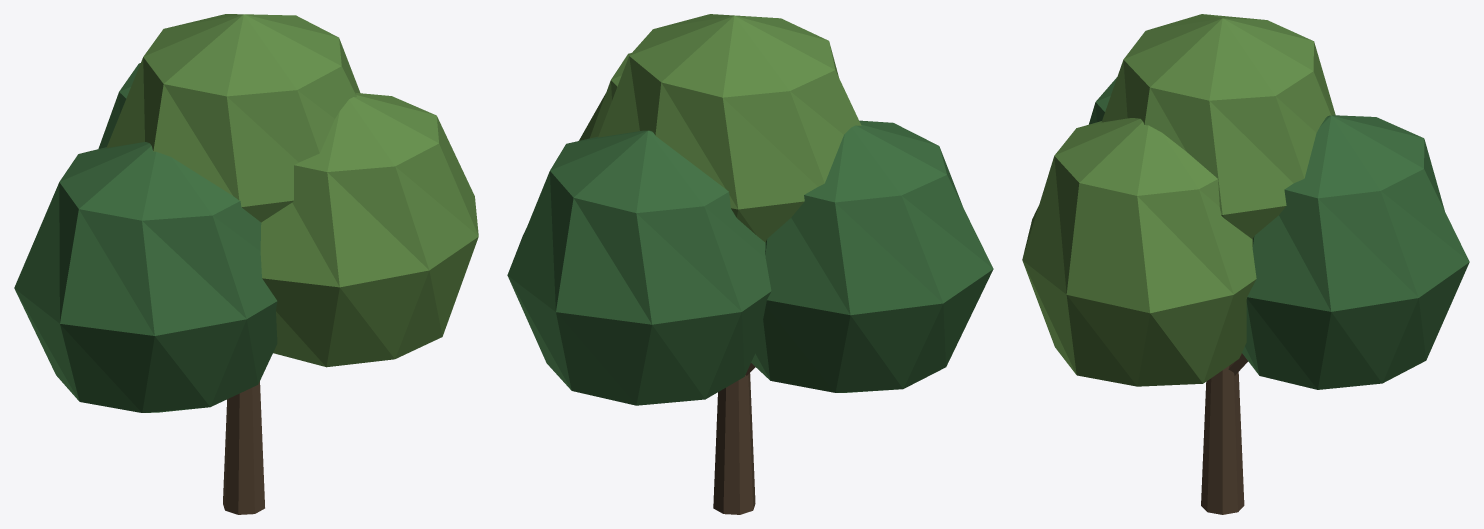
Rendered from tree_small.glb.
The picture shows the model from 3 angles, left to right: view 1: azimuth 30°, elevation 25°; view 2: azimuth 150°, elevation 25°; view 3: azimuth 270°, elevation 25°; orthographic projection.
Visible parts, largest first — view 1: tree_small; view 2: tree_small; view 3: tree_small.
Part boxes in pixels (x1,y1,x2,y2): tree_small: (14, 14, 478, 514); tree_small: (507, 14, 993, 514); tree_small: (1022, 14, 1469, 514).
Bounding box in the file's own units: 5.27 × 5.94 × 4.94.
